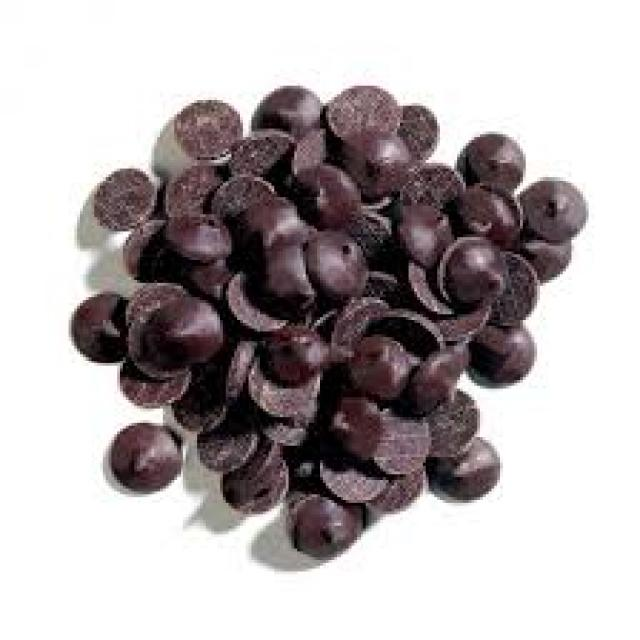Chocolate: (73, 78, 587, 563)
